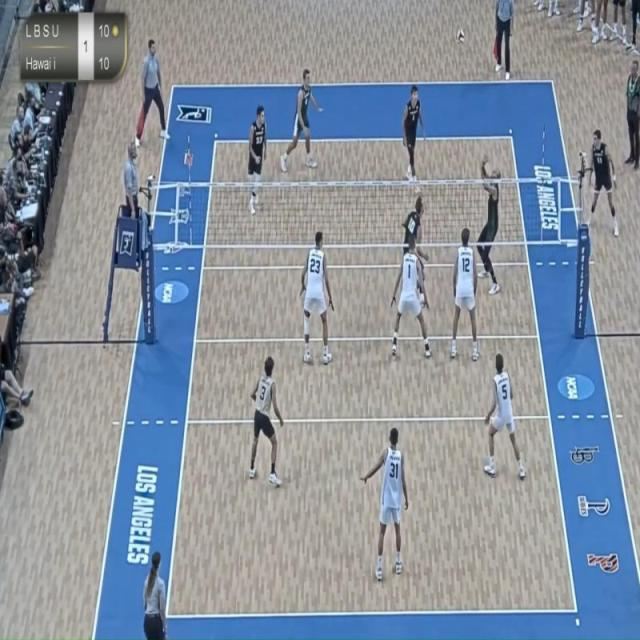volleyball: (454, 25, 468, 47)
